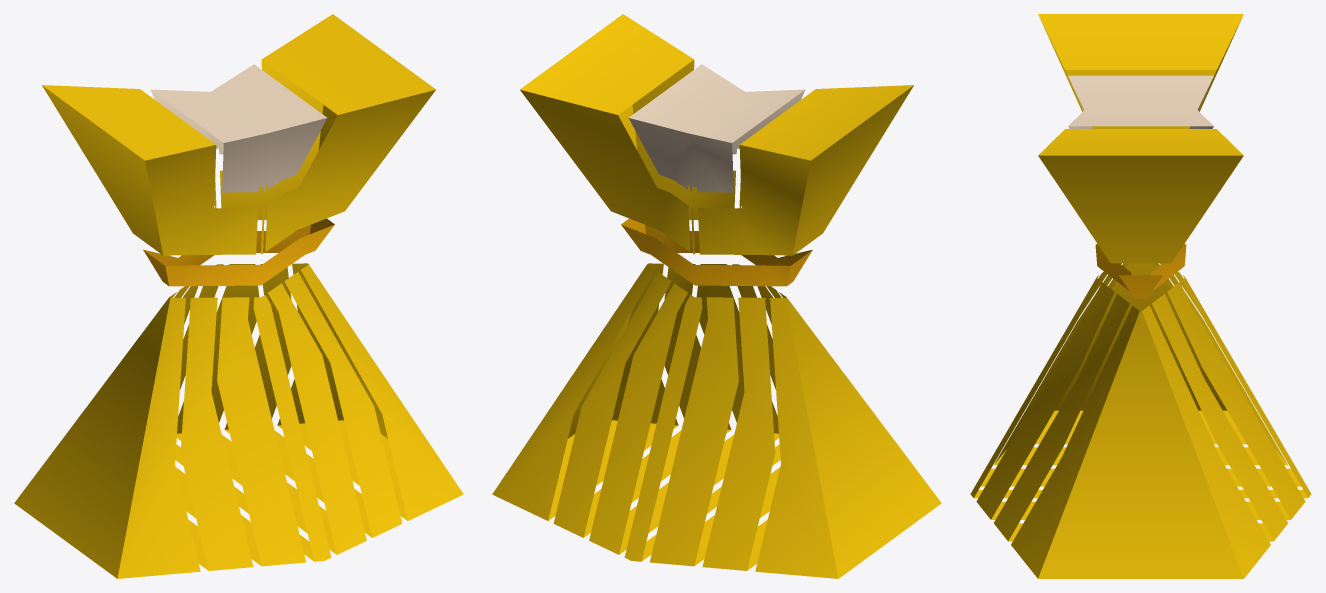
Rendered from C_GH_Body_F1.FBX.
3 views of the same model, side by side, from view 1: azimuth 30°, elevation 25°; view 2: azimuth 150°, elevation 25°; view 3: azimuth 270°, elevation 25° (orthographic).
Parts seen in each view (by area): view 1: Body; view 2: Body; view 3: Body.
Part boxes in pixels (x1=…): Body: x1=14, y1=14, x2=463, y2=578; Body: x1=492, y1=14, x2=941, y2=578; Body: x1=970, y1=14, x2=1311, y2=578.
Size of the model in its own units: 16.08 by 18.26 by 13.77.
